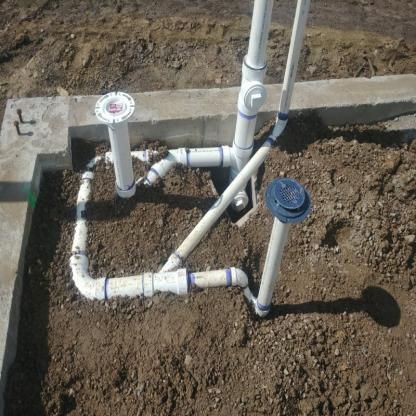PVC: (71, 148, 311, 318), (161, 0, 310, 269), (93, 1, 272, 199), (230, 186, 252, 215)
